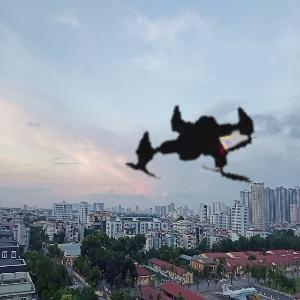drone: (97, 55, 297, 255)
